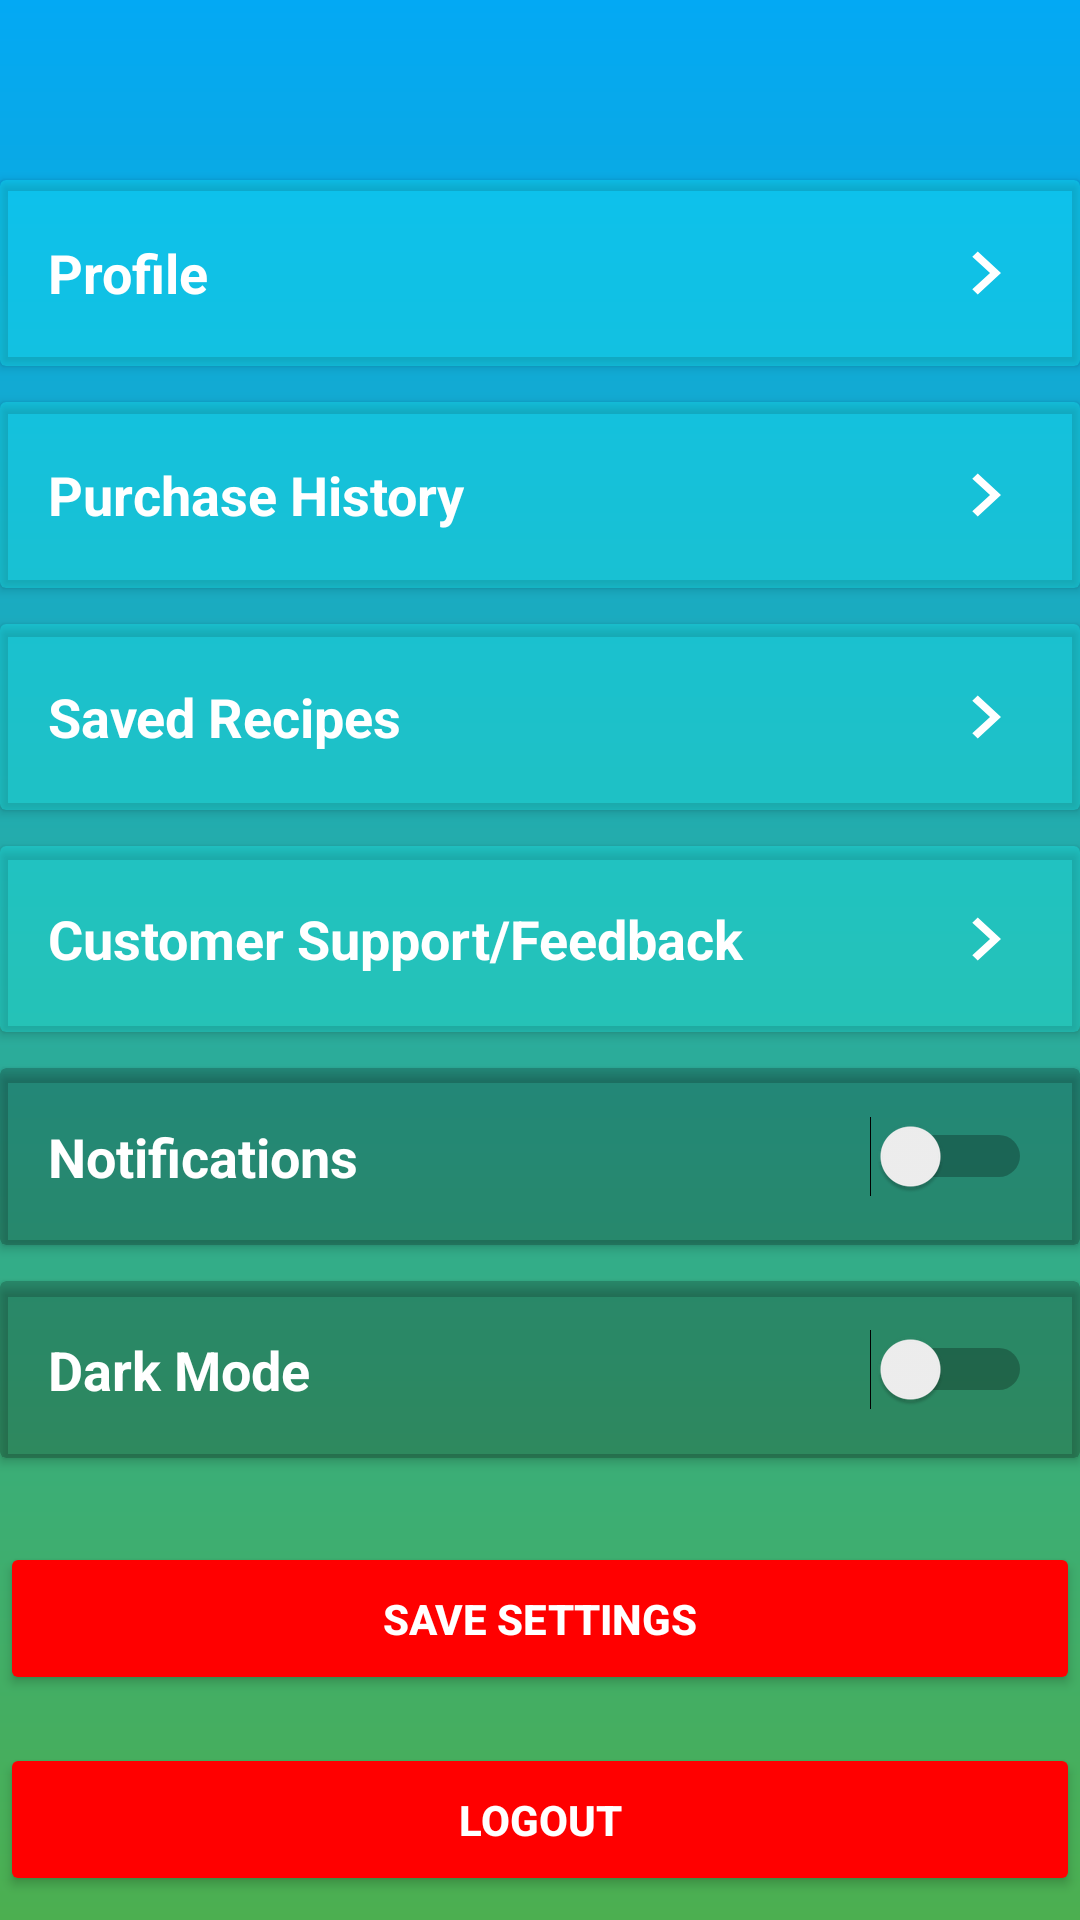

Where icons sit on this 1080*1920 app screen, as (x1, y1, x2, y2):
arrow right: (972, 251, 1001, 295), (972, 473, 1001, 517), (972, 695, 1001, 739), (972, 917, 1001, 961)
